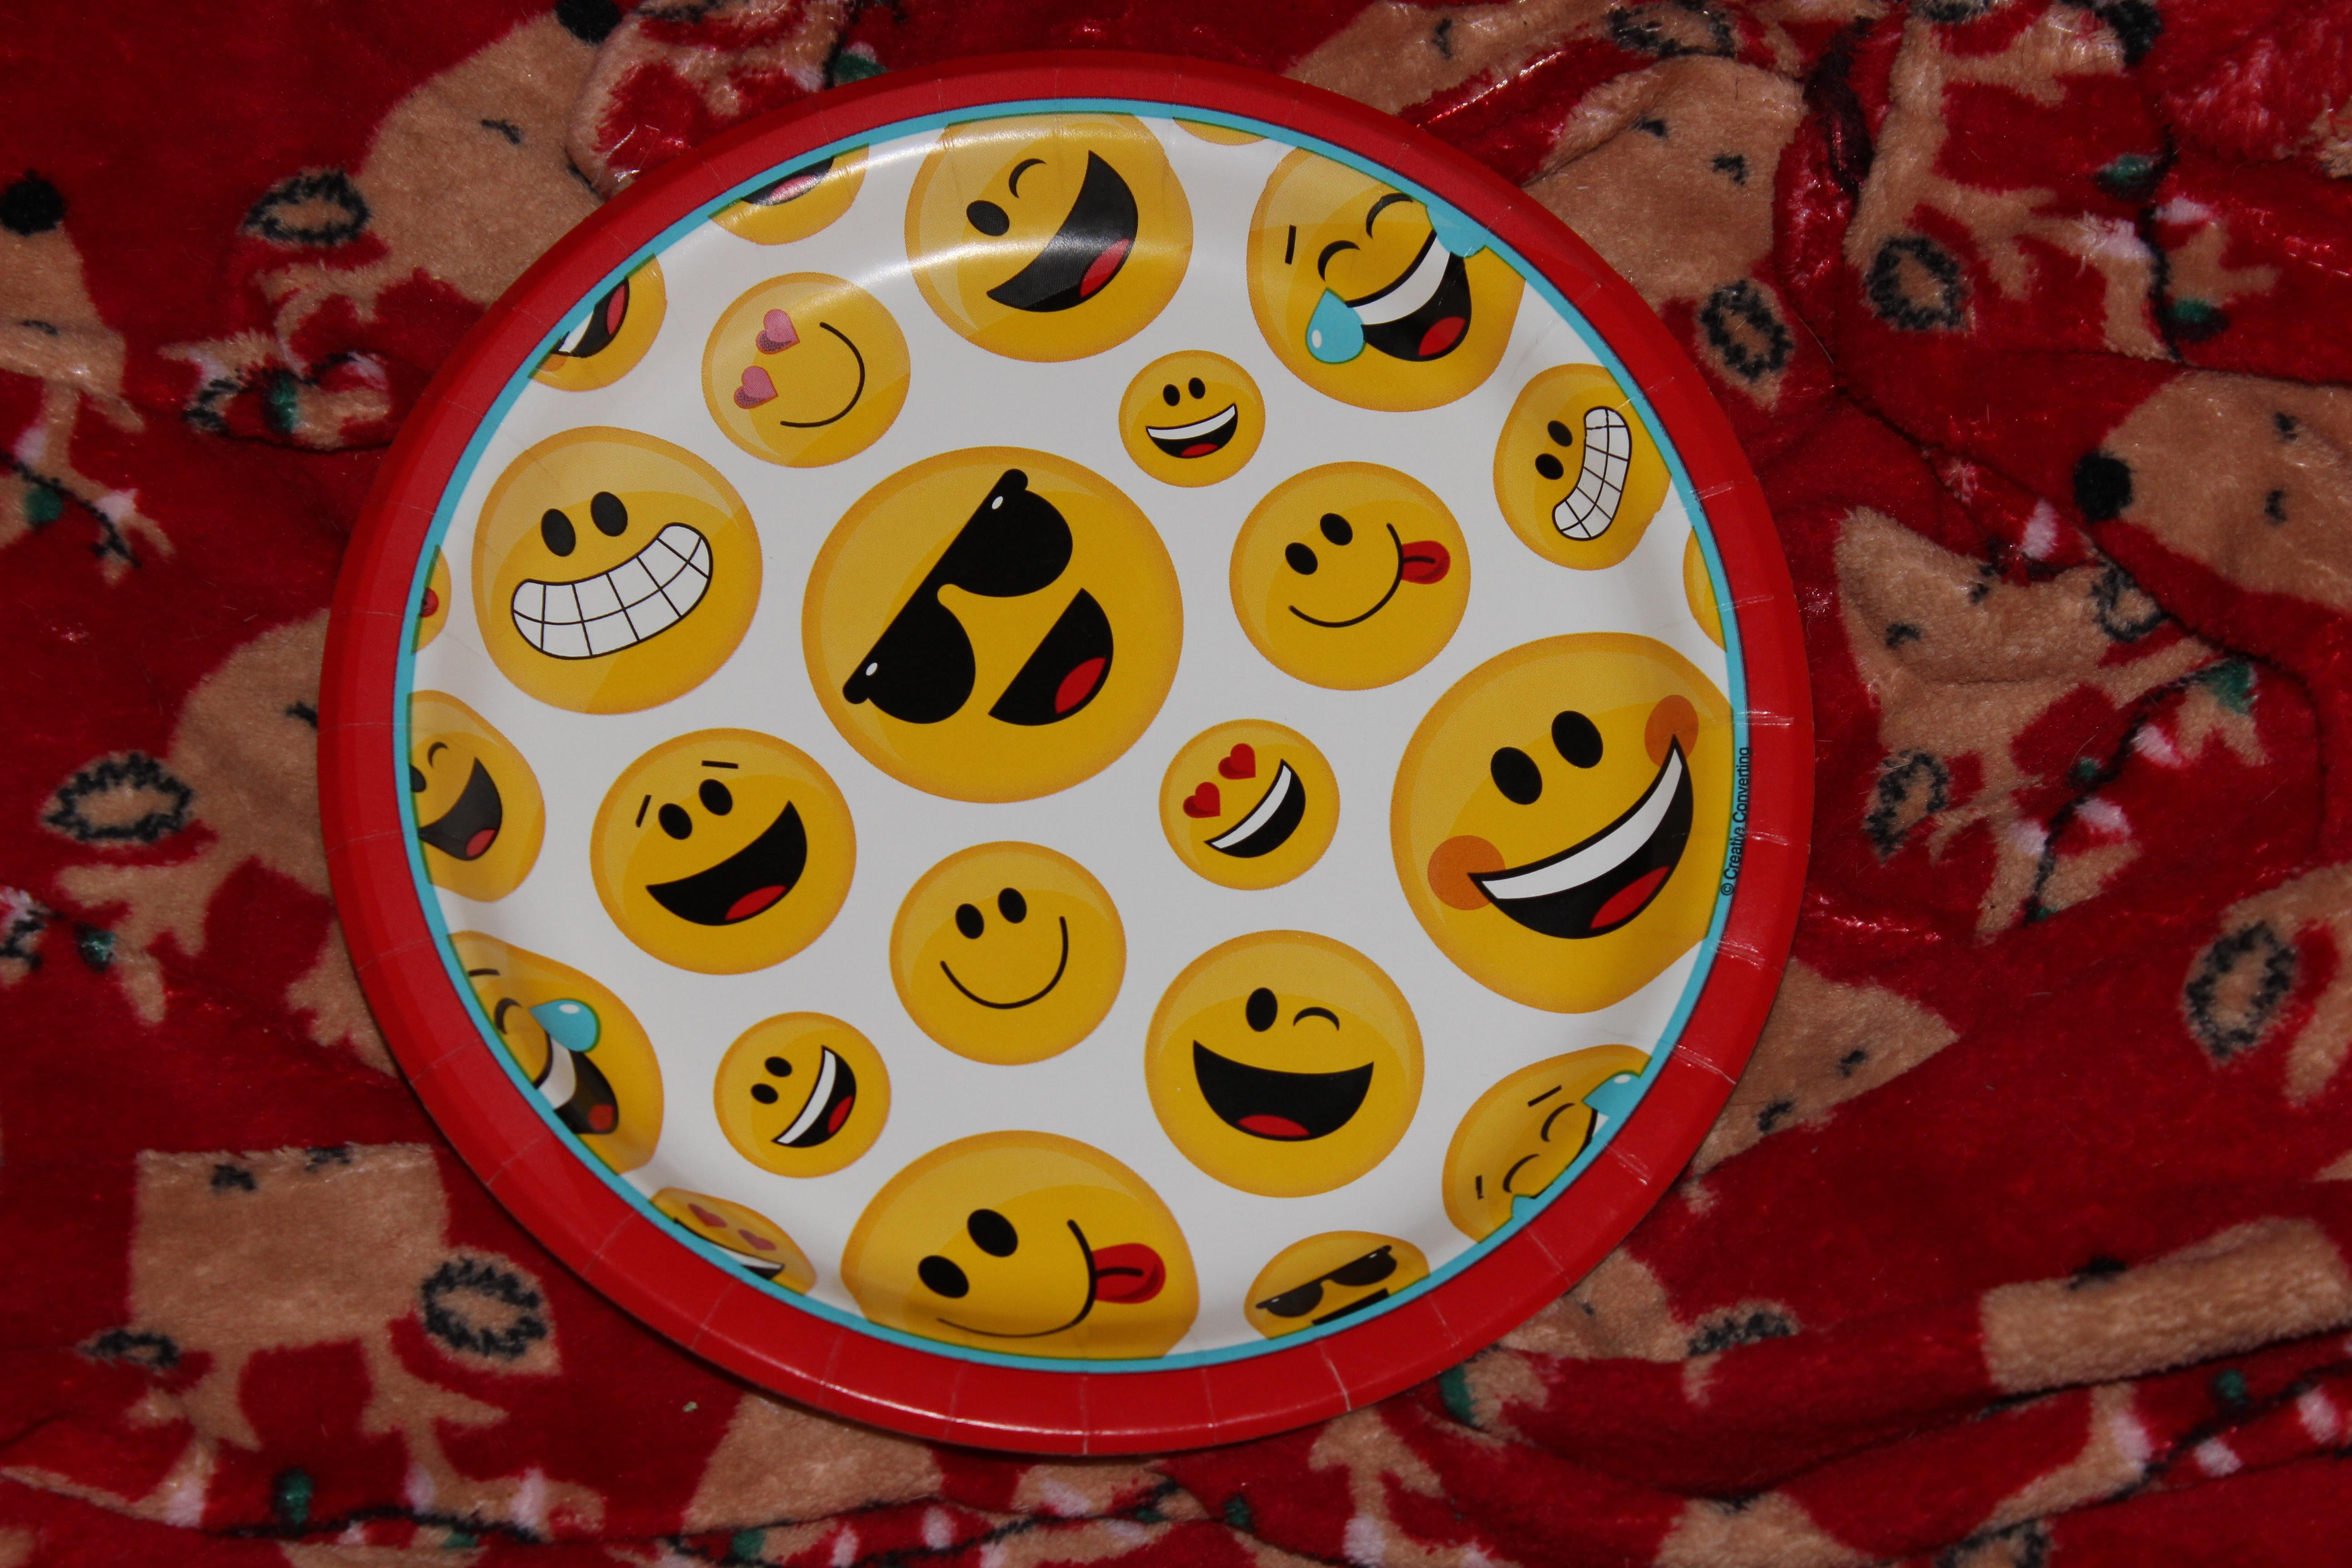paperPlate: (269, 21, 1890, 1528)
